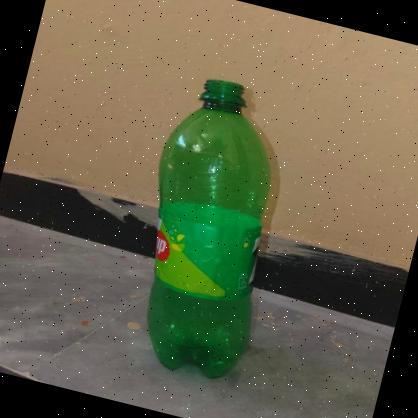bottle: (108, 62, 331, 402)
label: (134, 197, 282, 324)
